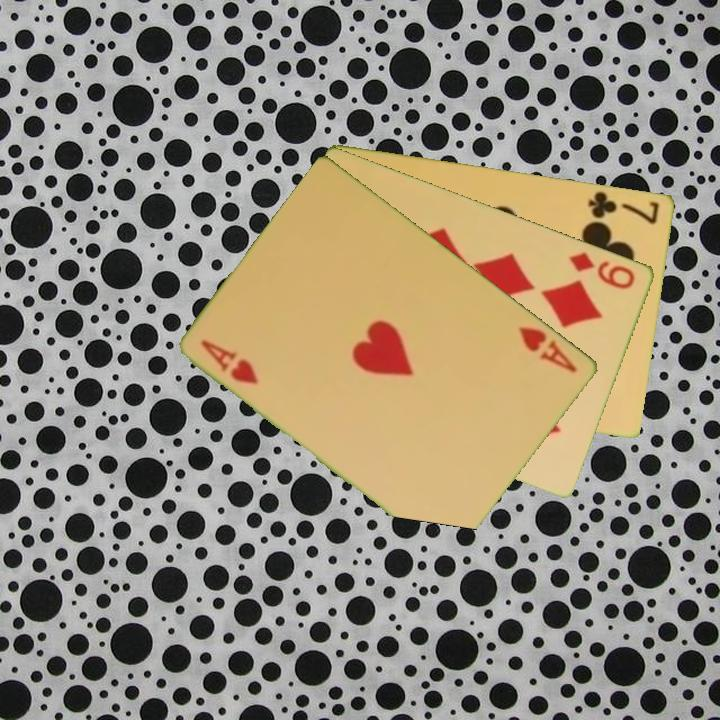7c: (585, 187, 663, 227)
9d: (565, 248, 639, 292)
Ah: (515, 322, 581, 376), (197, 335, 262, 387)
